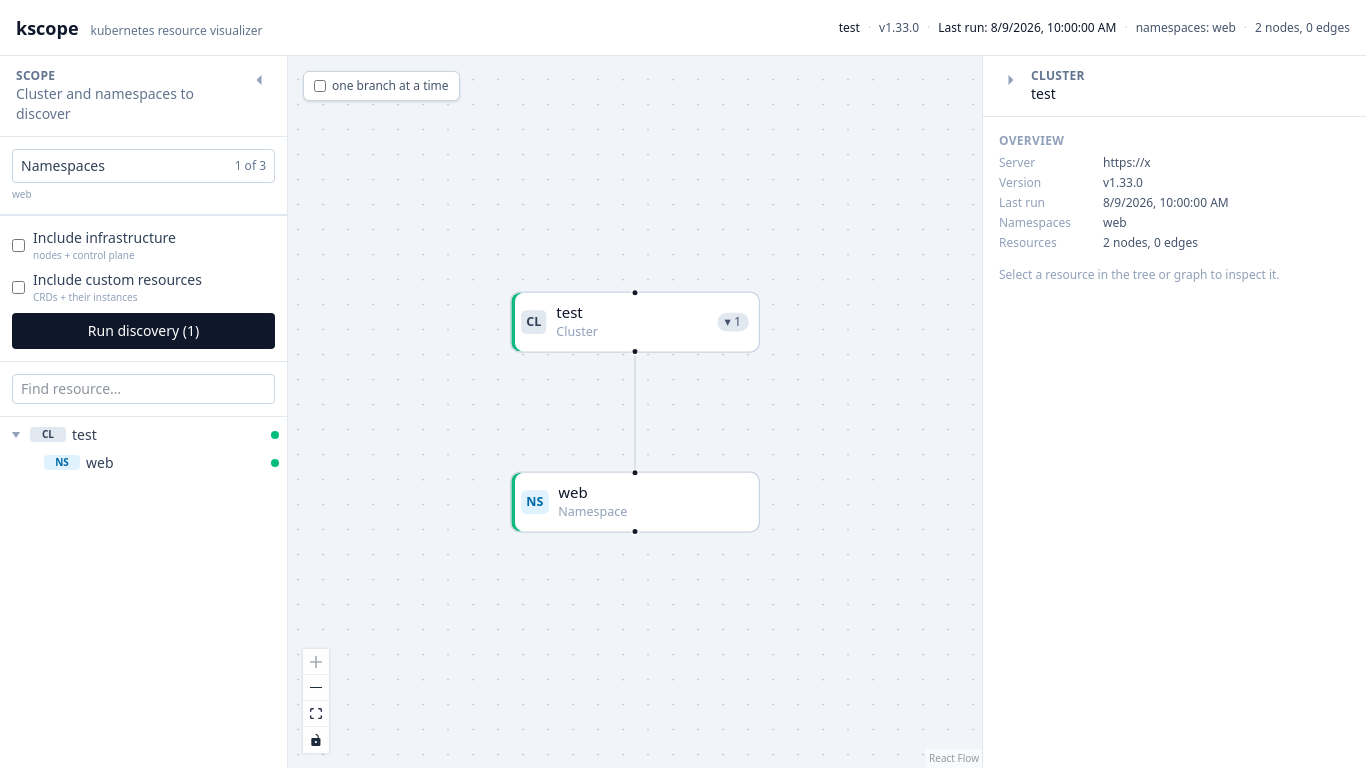
Test: sidebar collapsing › scopes the next run through the namespace picker
Expected: the button "Run discovery (1)" is shown, [12,313,275,349]
Click the button "Namespaces 1 of 3" at (63, 166), box [12,149,275,183]
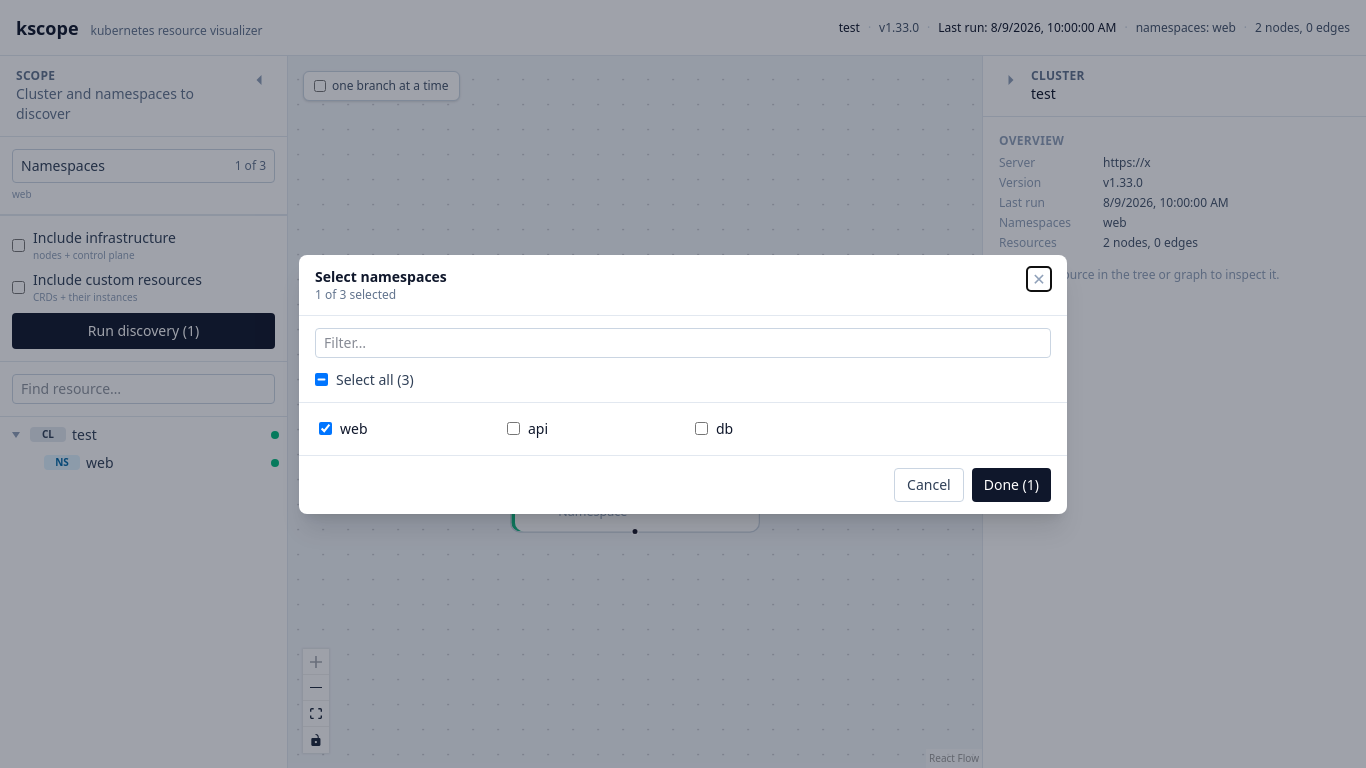
Click the checkbox labelled "Select all (3)" at (322, 380), box [315,373,328,386]
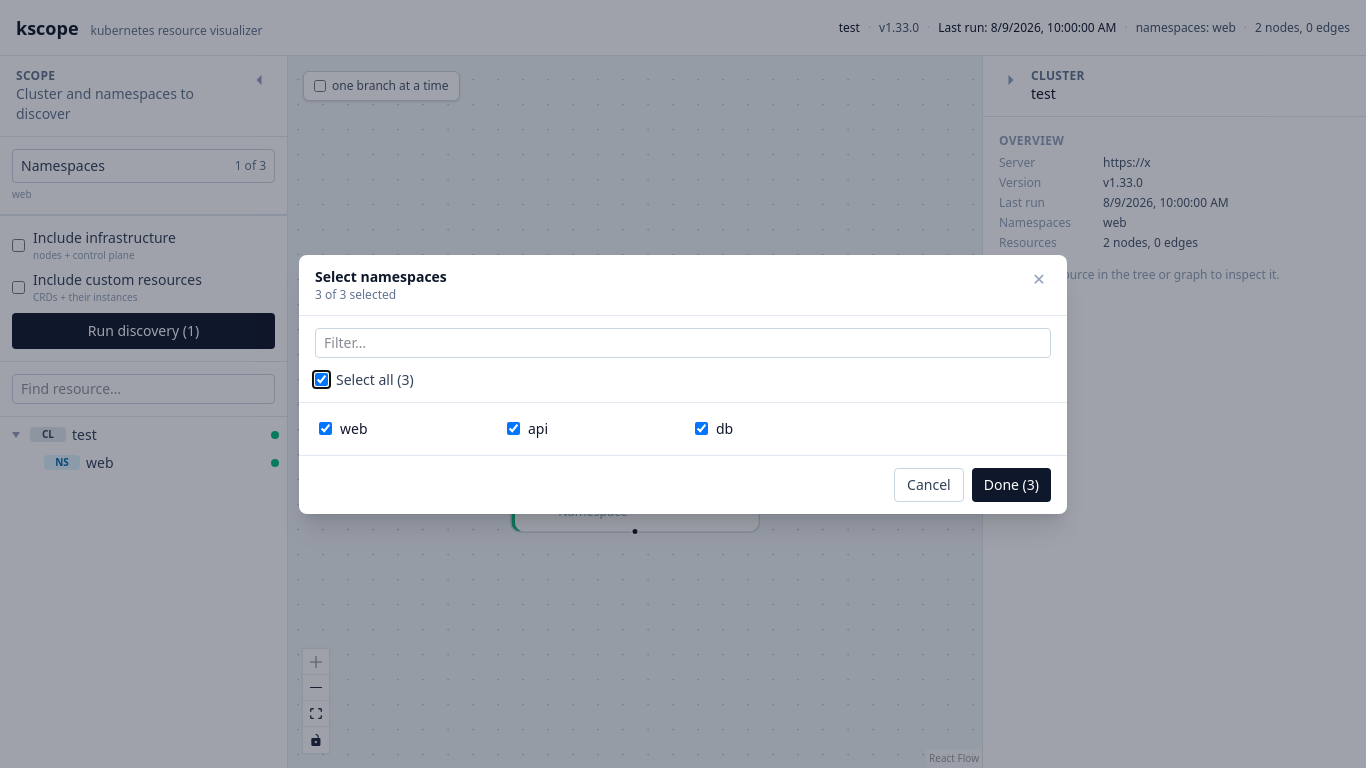
Click the button "Done (3)" at (1011, 484), box [972,468,1051,502]
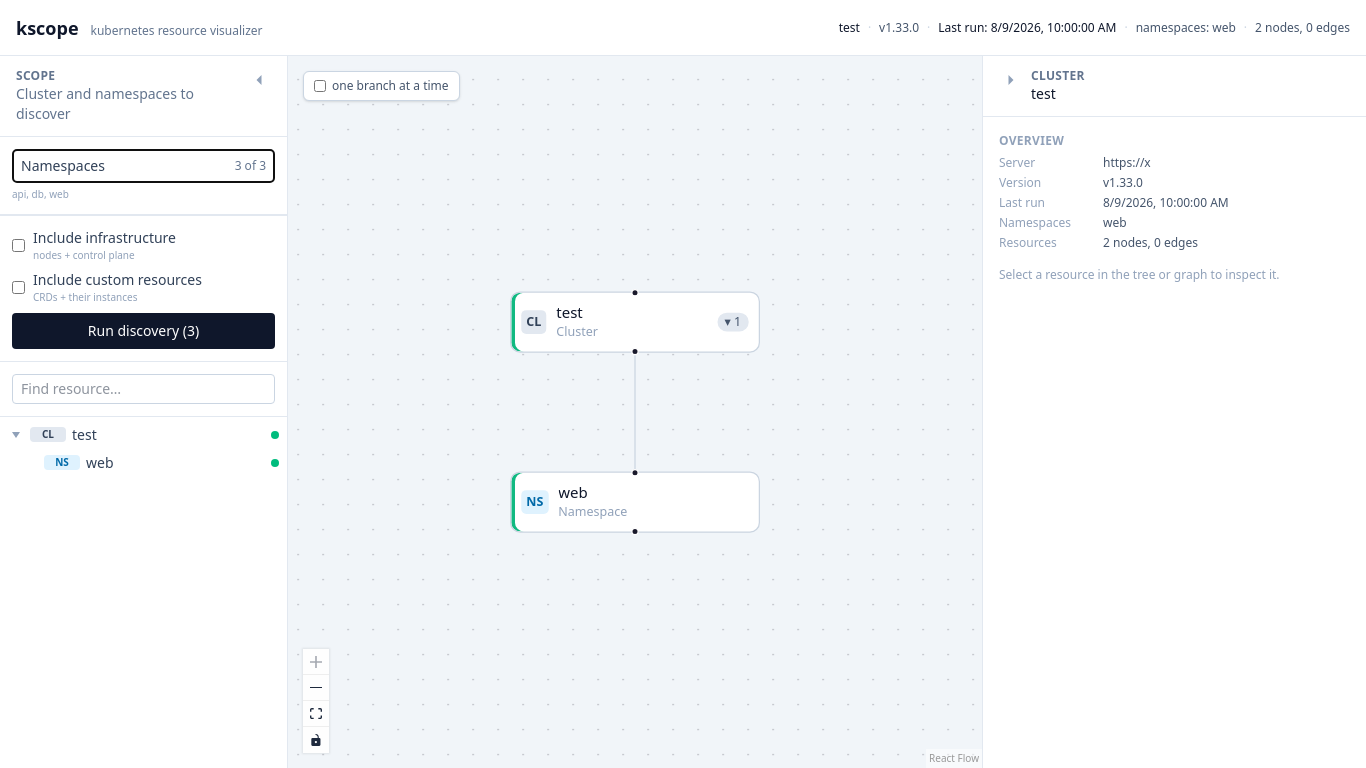
Now the button "Run discovery (3)" is shown, box [12,313,275,349]
